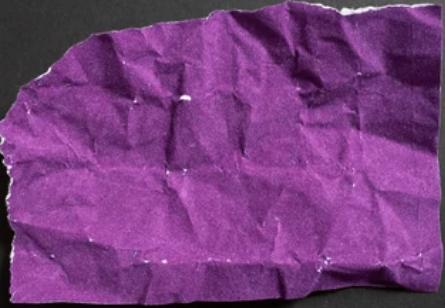Paper: (0, 2, 445, 307)
